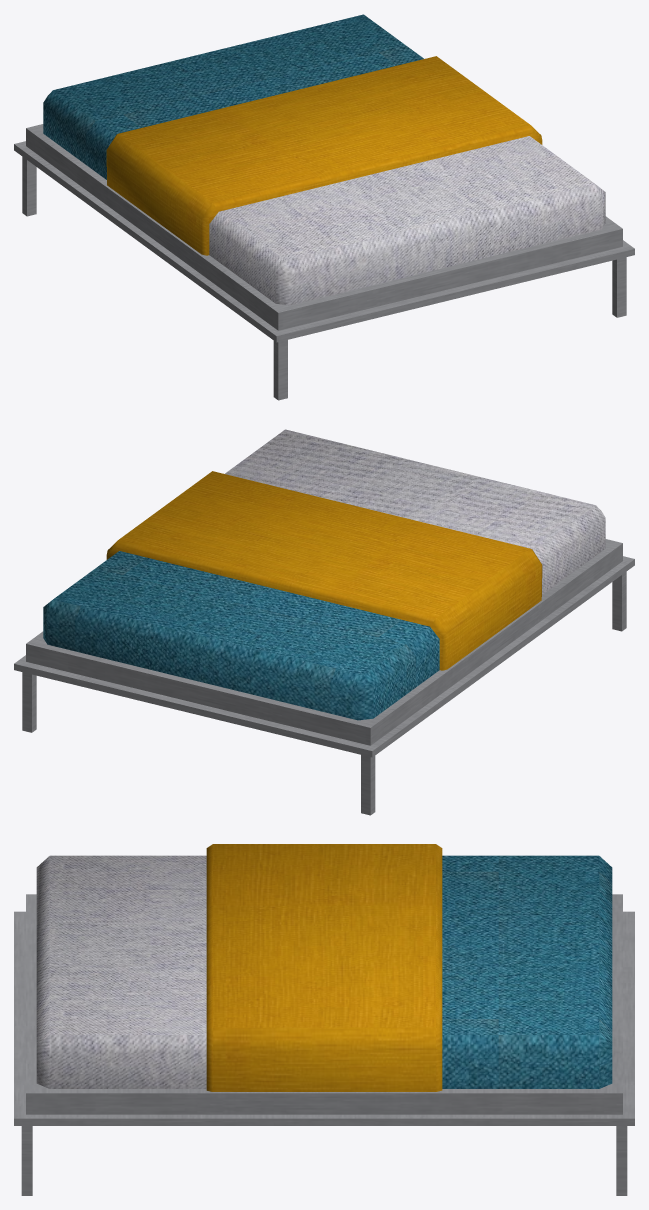
Rendered from Bed_02.glb.
3 renders of one model, top to bottom at view 1: azimuth 30°, elevation 25°; view 2: azimuth 150°, elevation 25°; view 3: azimuth 270°, elevation 25°, orthographic. The views are drawn at different scales.
Parts seen in each view (by area): view 1: Bed_02; view 2: Bed_02; view 3: Bed_02.
Boxes of the visible parts, x1,y1,x2,y2 form: Bed_02: [14, 14, 634, 400]; Bed_02: [14, 429, 634, 815]; Bed_02: [14, 844, 634, 1195].
Bounding box in the file's own units: 2.07 × 0.7448 × 2.63.
4 materials, 4 textured.
